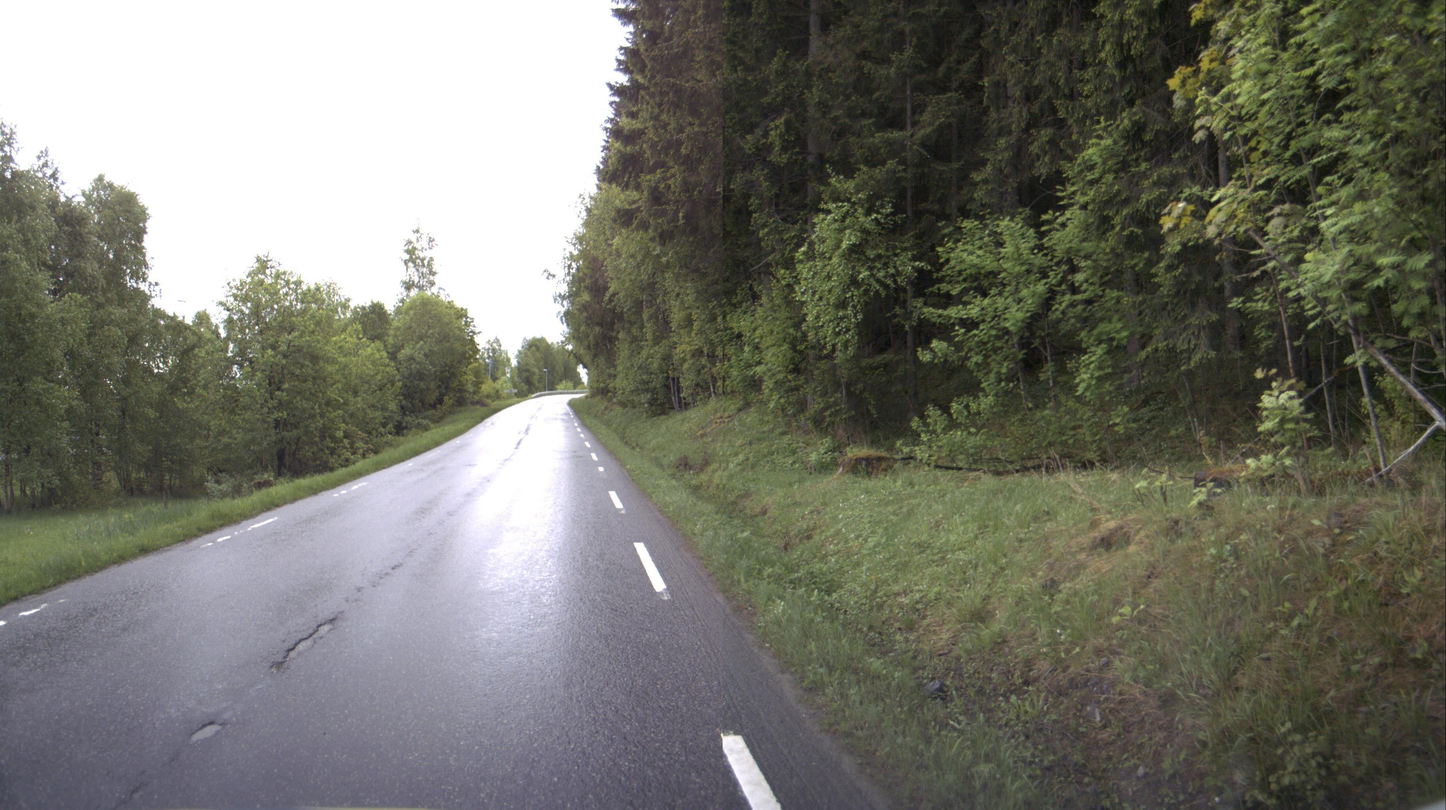pothole: (267, 613, 340, 678), (186, 718, 226, 744)
